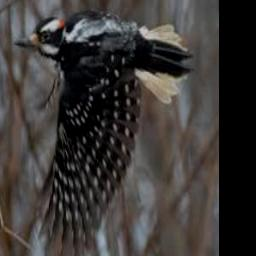Woodpecker: (15, 8, 193, 256)
